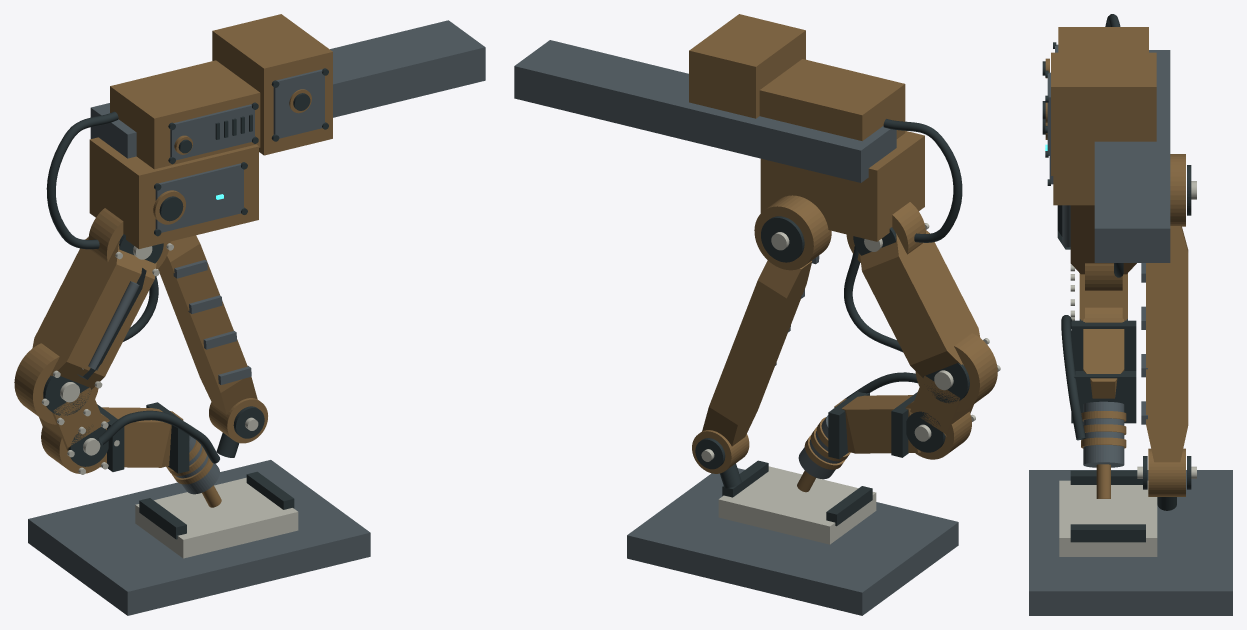
File: bras-maitre.glb
The picture shows the model from 3 angles, left to right: view 1: azimuth 30°, elevation 25°; view 2: azimuth 150°, elevation 25°; view 3: azimuth 270°, elevation 25°; orthographic projection. The views are drawn at different scales.
Visible parts, largest first — view 1: Établi témoin, Rail de suspension, Carter supérieur anguleux, Boîtier de motorisation.001, Boîtier de motorisation.002, Boîtier de motorisation, Tôle à souder, Long carter arrière, Plaque encastrée, Porte outil renforcé, Plaque encastrée.002, Plaque encastrée.001 (+16 smaller); view 2: Établi témoin, Rail de suspension, Carter supérieur anguleux, Boîtier de motorisation.001, Long carter arrière, Boîtier de motorisation.002, Boîtier de motorisation, Tôle à souder, Porte outil renforcé, Pivot arrière, Coude.001, Boucle alimentation supérieure (+13 smaller); view 3: Établi témoin, Boîtier de motorisation, Rail de suspension, Long carter arrière, Tôle à souder, Porte outil renforcé, Boîtier de motorisation.002, Tête de torche, Carter supérieur anguleux, Collier de porte outil, Collier de porte outil.001, Outil arrière (+14 smaller).
Part boxes in pixels (left/top/right/bottom): Établi témoin: left=28, top=460, right=370, bottom=615; Rail de suspension: left=90, top=20, right=485, bottom=158; Carter supérieur anguleux: left=32, top=237, right=156, bottom=389; Boîtier de motorisation.001: left=89, top=137, right=258, bottom=248; Boîtier de motorisation.002: left=110, top=60, right=260, bottom=169; Boîtier de motorisation: left=212, top=14, right=332, bottom=155; Tôle à souder: left=135, top=477, right=298, bottom=558; Long carter arrière: left=158, top=235, right=257, bottom=414; Plaque encastrée: left=155, top=163, right=243, bottom=232; Porte outil renforcé: left=93, top=407, right=183, bottom=467; Plaque encastrée.002: left=273, top=69, right=324, bottom=138; Plaque encastrée.001: left=170, top=104, right=254, bottom=160; Établi témoin: left=627, top=468, right=958, bottom=615; Rail de suspension: left=514, top=40, right=896, bottom=182; Carter supérieur anguleux: left=860, top=230, right=980, bottom=377; Boîtier de motorisation.001: left=760, top=131, right=924, bottom=241; Long carter arrière: left=702, top=260, right=812, bottom=446; Boîtier de motorisation.002: left=759, top=59, right=905, bottom=140; Boîtier de motorisation: left=689, top=14, right=805, bottom=118; Tôle à souder: left=718, top=466, right=876, bottom=544; Porte outil renforcé: left=834, top=395, right=920, bottom=453; Pivot arrière: left=754, top=195, right=831, bottom=270; Coude.001: left=915, top=333, right=997, bottom=411; Boucle alimentation supérieure: left=883, top=119, right=962, bottom=242; Établi témoin: left=1029, top=470, right=1232, bottom=615; Boîtier de motorisation: left=1051, top=52, right=1156, bottom=175; Rail de suspension: left=1094, top=50, right=1170, bottom=262; Long carter arrière: left=1146, top=226, right=1188, bottom=462; Tôle à souder: left=1059, top=480, right=1157, bottom=556; Porte outil renforcé: left=1083, top=318, right=1124, bottom=398; Boîtier de motorisation.002: left=1058, top=27, right=1148, bottom=52; Tête de torche: left=1083, top=401, right=1124, bottom=467; Carter supérieur anguleux: left=1070, top=205, right=1136, bottom=274; Collier de porte outil: left=1071, top=371, right=1136, bottom=423; Collier de porte outil.001: left=1071, top=320, right=1136, bottom=370; Outil arrière: left=1148, top=448, right=1185, bottom=496.
Size of what is drawn, in the model's own units: 3.58 by 3.77 by 1.35.
